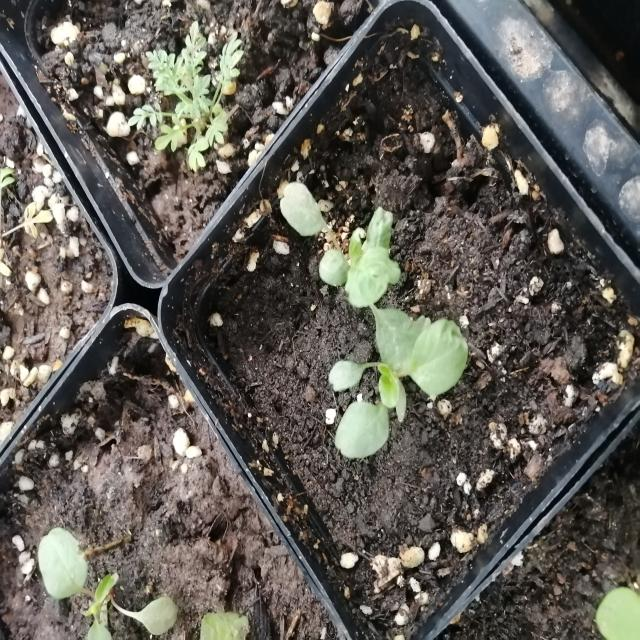pigweed: (326, 306, 466, 463), (265, 178, 391, 319)
